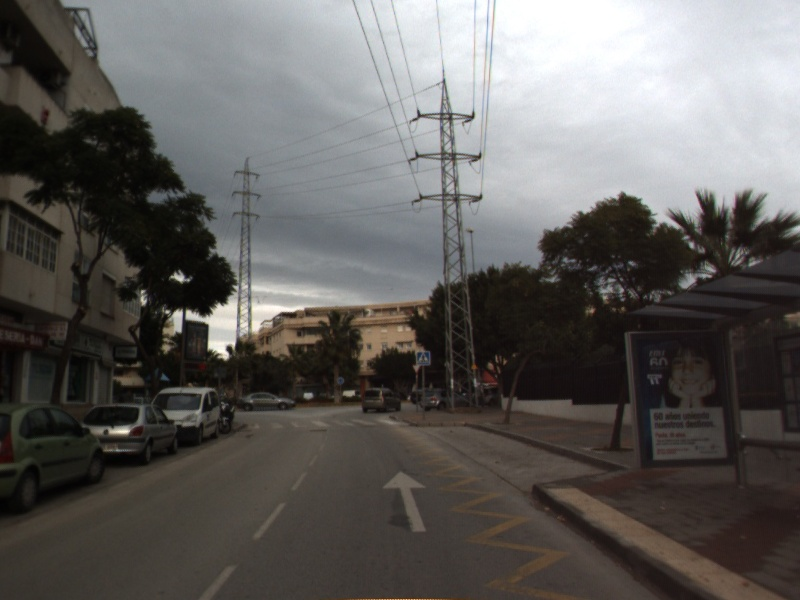STRAIGHT: (380, 469, 430, 534)
